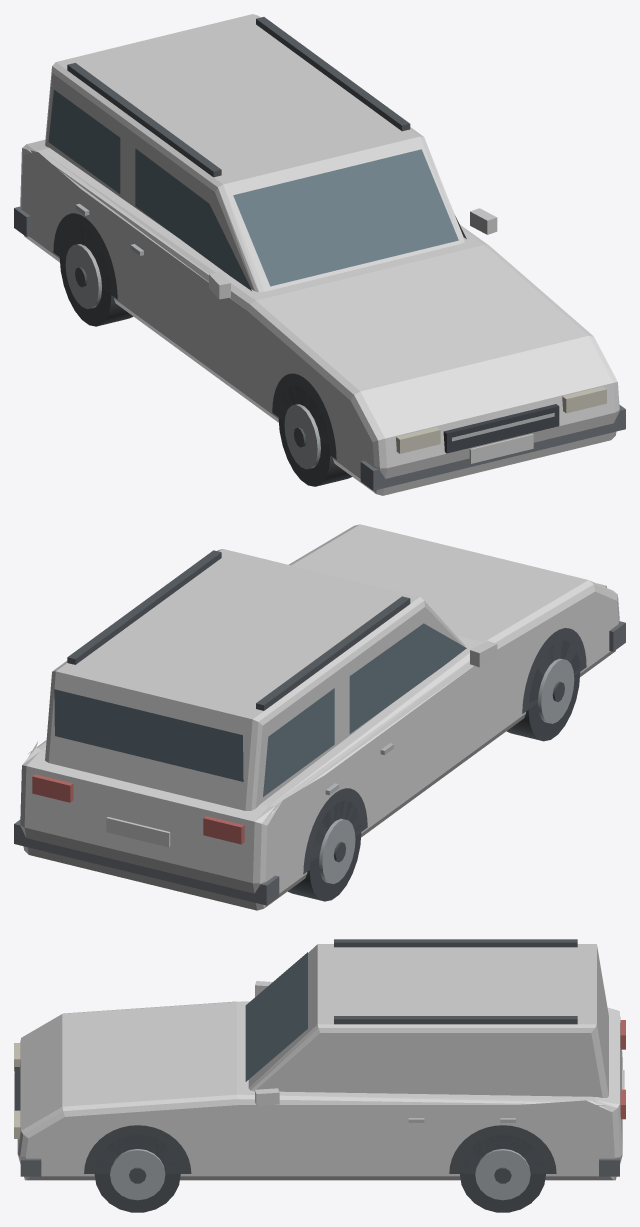
Rendered from wagon.glb.
3 renders of one model, top to bottom at view 1: azimuth 30°, elevation 25°; view 2: azimuth 150°, elevation 25°; view 3: azimuth 270°, elevation 25°, orthographic. The views are drawn at different scales.
Parts seen in each view (by area): view 1: wagon; view 2: wagon; view 3: wagon.
Part boxes in pixels (x1,y1,x2,y2): wagon: [14, 14, 625, 495]; wagon: [14, 524, 625, 910]; wagon: [14, 939, 625, 1212].
Size of the model in its own units: 2.05 by 1.54 by 4.67.
